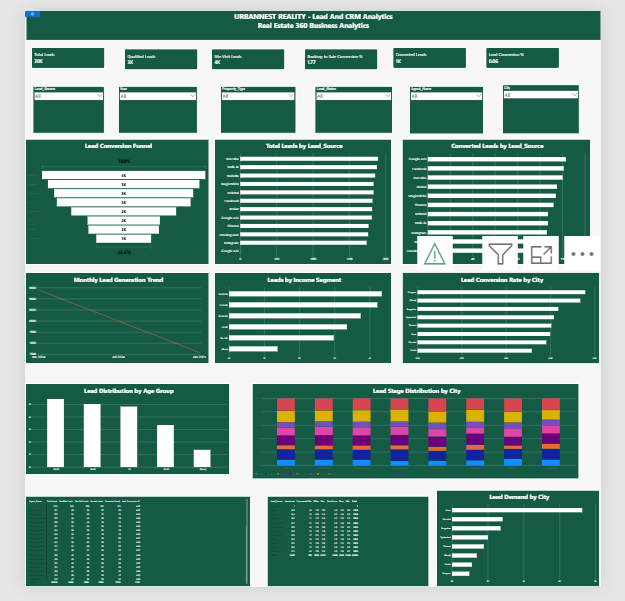

Layout of this report page (visuals, bound fields, positions):
{"tool":"powerbi","page":{"name":"04-Lead and CRM analytics","canvas":[3840,3840],"ordinal":3},"visuals":[{"type":"textbox","title":"URBANNEST REALITY  - Lead And CRM  Analytics","box":[11.3,0,3826.8,192.8],"z":0},{"type":"funnel","title":"Lead Conversion Funnel","fields":{"Category":["Fact_Leads.Lead_Status"],"Y":["Fact_Leads.Total Leads"]},"box":[0,850,1231.2,843.8],"z":1000},{"type":"clusteredBarChart","fields":{"Category":["Fact_Leads.Lead_Source"],"Y":["Fact_Leads.Total Leads"]},"box":[1262.5,850,1187.5,843.8],"z":2000},{"type":"barChart","fields":{"Category":["Fact_Leads.Lead_Source"],"Y":["Fact_Leads.Converted Leads"]},"box":[2512.5,850,1262.5,843.8],"z":3000},{"type":"lineChart","title":"Monthly Lead Generation Trend","fields":{"Category":["Dim_Date.Year_Month.Variation.Date Hierarchy.Year","Dim_Date.Year_Month.Variation.Date Hierarchy.Quarter","Dim_Date.Year_Month.Variation.Date Hierarchy.Month","Dim_Date.Year_Month.Variation.Date Hierarchy.Day"],"Y":["Fact_Leads.Total Leads"]},"box":[0,1737.5,1231.2,612.5],"z":4000},{"type":"barChart","title":"Lead Demand by City","fields":{"Category":["Dim_Location.City"],"Y":["Fact_Leads.Total Leads"]},"box":[2743.8,3187.5,1095.2,652.4],"z":5000},{"type":"barChart","title":"Lead Conversion Rate by City","fields":{"Category":["Dim_Location.City"],"Y":["Fact_Leads.Lead Conversion %"]},"box":[2512.5,1737.5,1325,612.5],"z":6000},{"type":"pivotTable","fields":{"Rows":["Dim_Agent.Agent_Name"],"Values":["Fact_Leads.Total Leads","Fact_Leads.Qualified Leads","Fact_Leads.Site Visit Leads","Fact_Leads.Booked Leads","Fact_Leads.Converted Leads","Fact_Leads.Lead Conversion %"]},"box":[0,3225,1506.2,612.5],"z":7000},{"type":"actionButton","box":[0,0,100,40],"z":8000},{"type":"columnChart","title":"Lead Distribution by Age Group","fields":{"Category":["Dim_Customer.Age_Group "],"Y":["Fact_Leads.Total Leads"]},"box":[0,2481.2,1368.8,612.5],"z":9000},{"type":"barChart","title":"Leads by Income Segment","fields":{"Category":["Dim_Customer.Income_Range"],"Y":["Fact_Leads.Total Leads"]},"box":[1262.5,1737.5,1187.5,612.5],"z":10000},{"type":"pivotTable","fields":{"Columns":["Dim_Property.Property_Type"],"Rows":["Fact_Leads.Lead_Source"],"Values":["Fact_Leads.Total Leads"]},"box":[1612.5,3225,1087.5,612.5],"z":11000},{"type":"hundredPercentStackedColumnChart","title":"Lead Stage Distribution by City","fields":{"Category":["Dim_Location.City"],"Series":["Fact_Leads.Lead_Status"],"Y":["Fact_Leads.Total Leads"]},"box":[1506.2,2481.2,2187.5,643.8],"z":12000},{"type":"slicer","fields":{"Values":["Dim_Date.Date.Variation.Date Hierarchy.Year"]},"box":[618.2,500,531.8,318.2],"z":13000},{"type":"slicer","fields":{"Values":["Dim_Property.City"]},"box":[3177.3,486.4,518.2,331.8],"z":14000},{"type":"slicer","fields":{"Values":["Fact_Leads.Lead_Source"]},"box":[50,500,481.8,318.2],"z":15000},{"type":"slicer","fields":{"Values":["Fact_Leads.Lead_Status"]},"box":[1927.3,500,522.7,318.2],"z":16000},{"type":"slicer","fields":{"Values":["Dim_Property.Property_Type"]},"box":[1304.5,500,509.1,318.2],"z":17000},{"type":"slicer","fields":{"Values":["Dim_Agent.Agent_Name"]},"box":[2563.6,495.5,500,322.7],"z":18000},{"type":"cardVisual","fields":{"Data":["Fact_Leads.Total Leads"]},"box":[40,235,495,145],"z":19000},{"type":"cardVisual","fields":{"Data":["Fact_Leads.Qualified Leads"]},"box":[655,245,495,145],"z":20000},{"type":"cardVisual","fields":{"Data":["Fact_Leads.Site Visit Leads"]},"box":[1240,245,495,145],"z":21000},{"type":"cardVisual","fields":{"Data":["Fact_Sales.Booking to Sale Conversion %"]},"box":[1855,245,495,145],"z":22000},{"type":"cardVisual","fields":{"Data":["Fact_Leads.Converted Leads"]},"box":[2450,235,495,145],"z":23000},{"type":"cardVisual","fields":{"Data":["Fact_Leads.Lead Conversion %"]},"box":[3065,235,495,145],"z":24000}]}

Visuals, with their boxes in screenshot pixels (x1, y1, x2, y2):
"URBANNEST REALITY  - Lead And CRM  Analytics" textbox: (left=26, top=11, right=595, bottom=40)
"Lead Conversion Funnel" funnel: (left=24, top=138, right=208, bottom=263)
clusteredBarChart - Fact_Leads.Lead_Source x Fact_Leads.Total Leads: (left=212, top=138, right=389, bottom=263)
barChart - Fact_Leads.Lead_Source x Fact_Leads.Converted Leads: (left=398, top=138, right=586, bottom=263)
"Monthly Lead Generation Trend" lineChart: (left=24, top=270, right=208, bottom=361)
"Lead Demand by City" barChart: (left=433, top=486, right=596, bottom=583)
"Lead Conversion Rate by City" barChart: (left=398, top=270, right=595, bottom=361)
pivotTable - Dim_Agent.Agent_Name x Fact_Leads.Total Leads: (left=24, top=491, right=248, bottom=582)
actionButton: (left=24, top=11, right=39, bottom=17)
"Lead Distribution by Age Group" columnChart: (left=24, top=381, right=228, bottom=472)
"Leads by Income Segment" barChart: (left=212, top=270, right=389, bottom=361)
pivotTable - Dim_Property.Property_Type x Fact_Leads.Lead_Source: (left=264, top=491, right=426, bottom=582)
"Lead Stage Distribution by City" hundredPercentStackedColumnChart: (left=248, top=381, right=574, bottom=476)
slicer - Dim_Date.Date.Variation.Date Hierarchy.Year: (left=116, top=86, right=195, bottom=133)
slicer - Dim_Property.City: (left=497, top=84, right=574, bottom=133)
slicer - Fact_Leads.Lead_Source: (left=32, top=86, right=104, bottom=133)
slicer - Fact_Leads.Lead_Status: (left=311, top=86, right=389, bottom=133)
slicer - Dim_Property.Property_Type: (left=218, top=86, right=294, bottom=133)
slicer - Dim_Agent.Agent_Name: (left=406, top=85, right=480, bottom=133)
cardVisual - Fact_Leads.Total Leads: (left=30, top=46, right=104, bottom=68)
cardVisual - Fact_Leads.Qualified Leads: (left=122, top=48, right=195, bottom=69)
cardVisual - Fact_Leads.Site Visit Leads: (left=209, top=48, right=283, bottom=69)
cardVisual - Fact_Sales.Booking to Sale Conversion %: (left=300, top=48, right=374, bottom=69)
cardVisual - Fact_Leads.Converted Leads: (left=389, top=46, right=463, bottom=68)
cardVisual - Fact_Leads.Lead Conversion %: (left=480, top=46, right=554, bottom=68)
